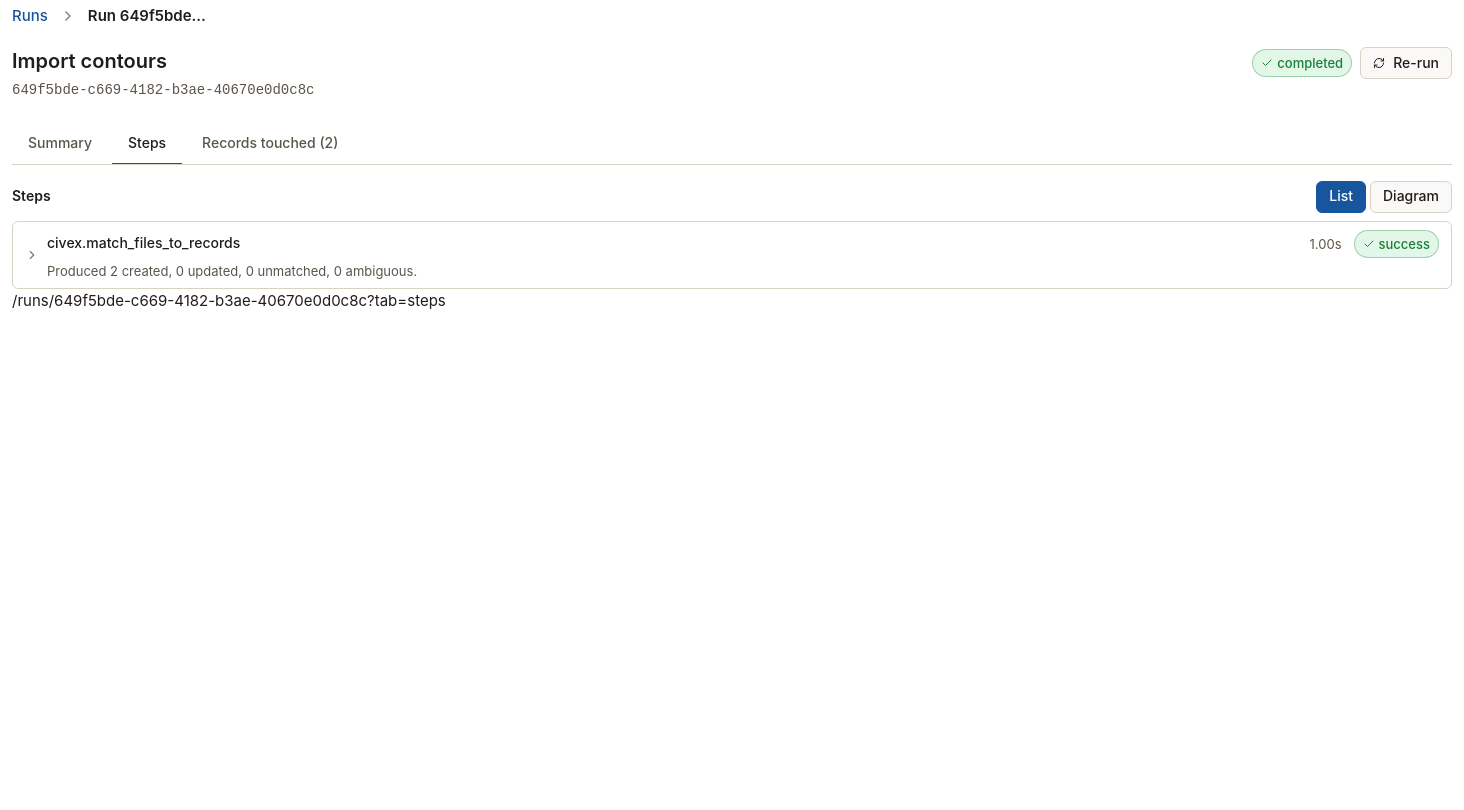
Test: a run’s page › puts the steps in their own tab too
Expected: the text "civex.match_files_to_records" is shown, [47,234,240,254]
What coordinates should you click on to do the following:
click the tab "Summary"
I would click on:
 (60, 144)
Its box is [12,124,108,164].
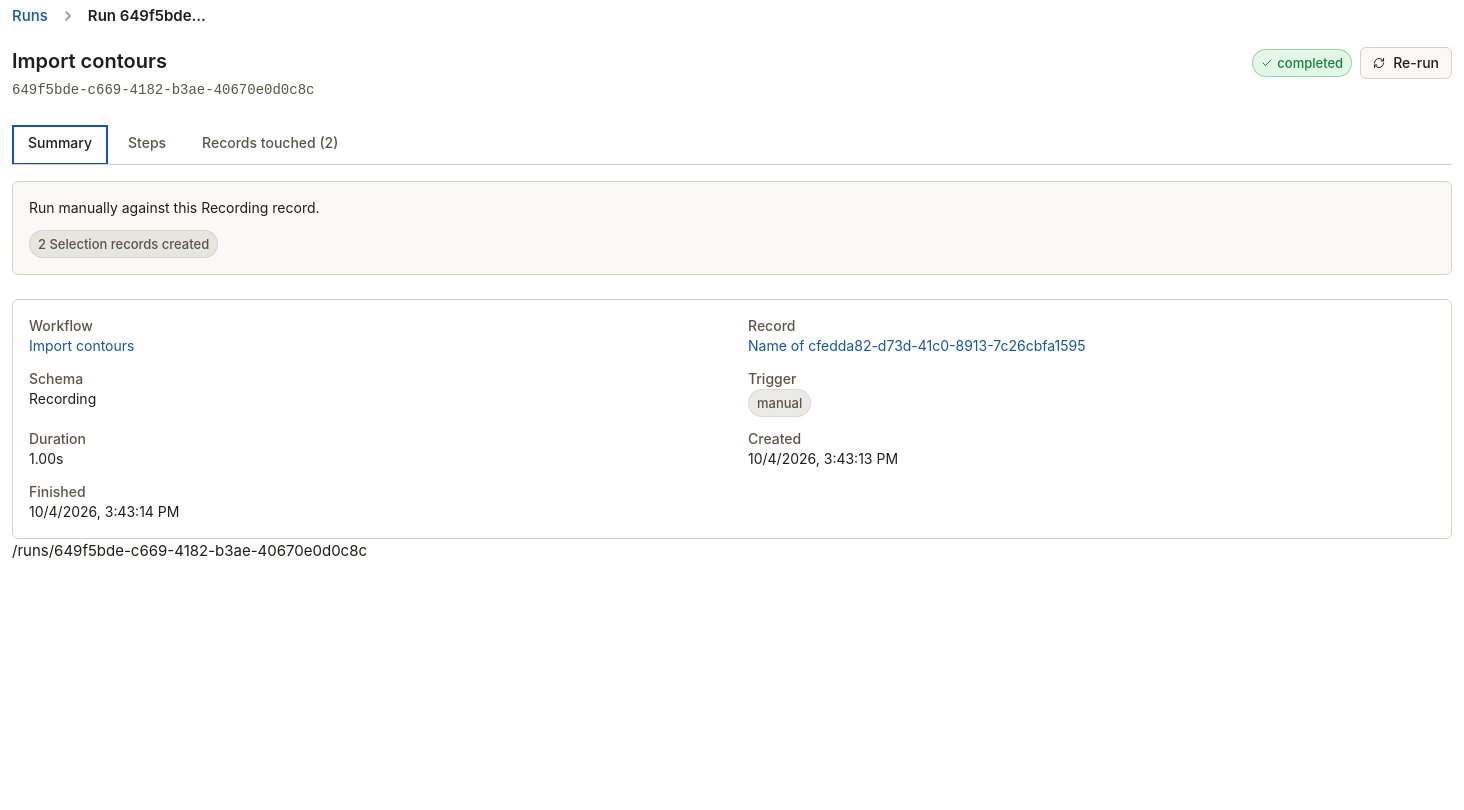
Result: the button "match_files_to_records" is gone
